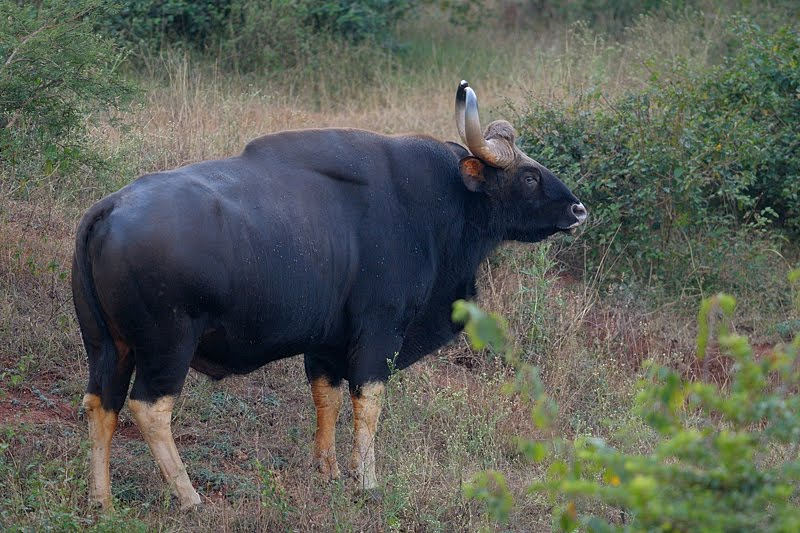bison: (60, 69, 590, 523)
